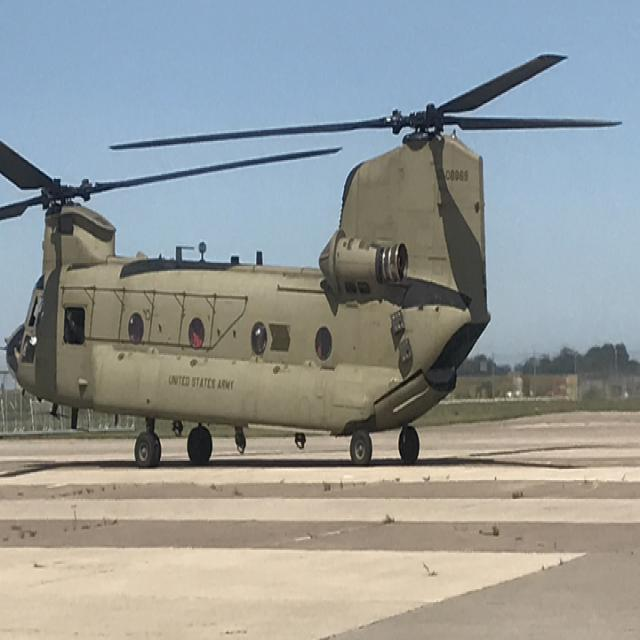helicopter: (1, 55, 627, 465)
